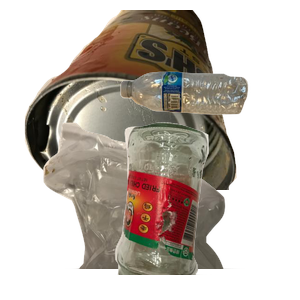glass: (112, 120, 300, 300)
metal: (22, 10, 251, 190)
plastic: (118, 69, 300, 176)
trash: (41, 120, 276, 300)
